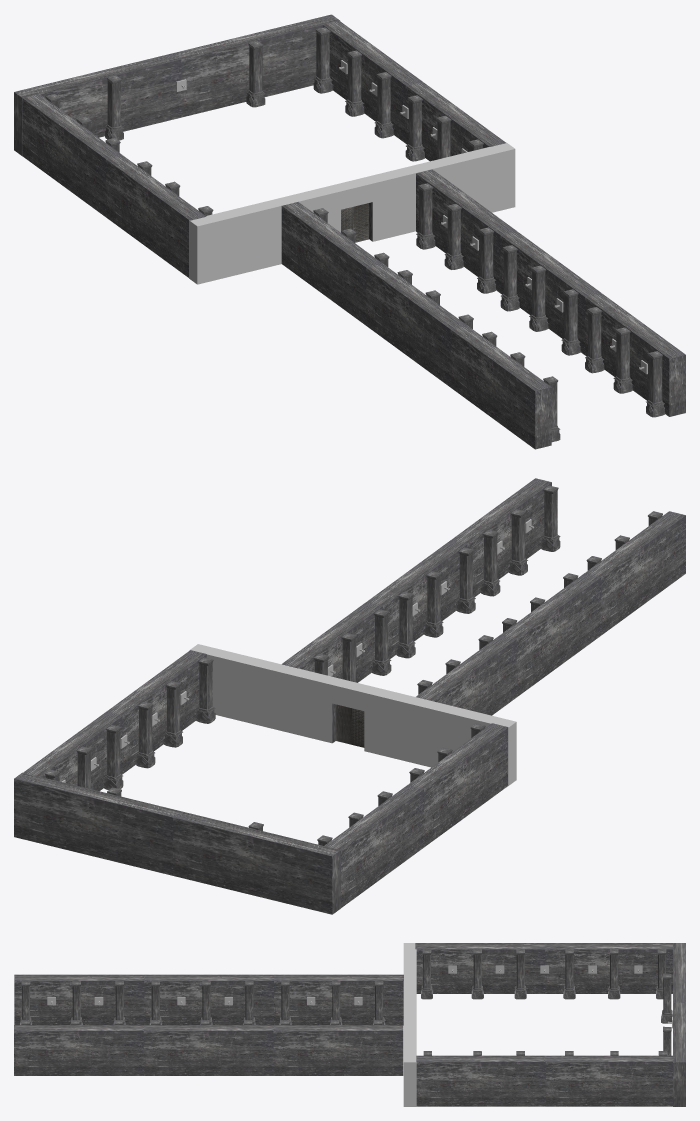
Rendered from wall2.fbx.
The picture shows the model from 3 angles, top to bottom: view 1: azimuth 30°, elevation 25°; view 2: azimuth 150°, elevation 25°; view 3: azimuth 270°, elevation 25°; orthographic projection. The views are drawn at different scales.
Visible parts, largest first — view 1: Cylinder_013, Cube_002, Cube_000, Cylinder_000, Cylinder_025, Cylinder_011, Cylinder_019, Cylinder_020, Cylinder_016, Cylinder_034, Cylinder_001, Cylinder_029 (+17 smaller); view 2: Cylinder_000, Cylinder_013, Cube_000, Cube_002, Cylinder_019, Cylinder_025, Cylinder_020, Cylinder_016, Cylinder_011, Cylinder_002, Cylinder_029, Cylinder_034 (+14 smaller); view 3: Cylinder_002, Cylinder_029, Cylinder_028, Cylinder_001, Cylinder_034, Cylinder_025, Cylinder_011, Cylinder_019, Cylinder_020, Cylinder_016, Cube_000, Cylinder_013 (+18 smaller).
Part boxes in pixels (x1,y1,x2,y2): Cylinder_013: [173, 14, 339, 117]; Cube_002: [189, 181, 356, 284]; Cube_000: [348, 142, 515, 241]; Cylinder_000: [14, 53, 181, 156]; Cylinder_025: [450, 325, 551, 449]; Cylinder_011: [281, 201, 382, 325]; Cylinder_019: [366, 263, 466, 387]; Cylinder_020: [105, 155, 206, 277]; Cylinder_016: [22, 94, 121, 216]; Cylinder_034: [585, 293, 685, 416]; Cylinder_001: [323, 20, 422, 143]; Cylinder_029: [500, 231, 600, 354]; Cylinder_000: [173, 811, 340, 914]; Cylinder_013: [14, 772, 180, 875]; Cube_000: [189, 644, 356, 743]; Cube_002: [349, 683, 516, 785]; Cylinder_019: [500, 573, 601, 696]; Cylinder_025: [585, 511, 685, 635]; Cylinder_020: [408, 723, 508, 847]; Cylinder_016: [324, 785, 424, 907]; Cylinder_011: [416, 635, 516, 715]; Cylinder_002: [107, 650, 206, 773]; Cylinder_029: [367, 540, 467, 659]; Cylinder_034: [451, 478, 551, 597]; Cylinder_002: [416, 1055, 545, 1106]; Cylinder_029: [143, 1025, 273, 1075]; Cylinder_028: [273, 1025, 403, 1075]; Cylinder_001: [544, 1055, 674, 1106]; Cylinder_034: [14, 1025, 143, 1075]; Cylinder_025: [14, 974, 144, 1024]; Cylinder_011: [274, 974, 403, 1025]; Cylinder_019: [144, 974, 273, 1024]; Cylinder_020: [415, 943, 545, 993]; Cylinder_016: [545, 943, 673, 993]; Cube_000: [403, 1002, 416, 1106]; Cylinder_013: [673, 1002, 685, 1106].
Bounding box in the file's own units: 199 × 35.5 × 474.
